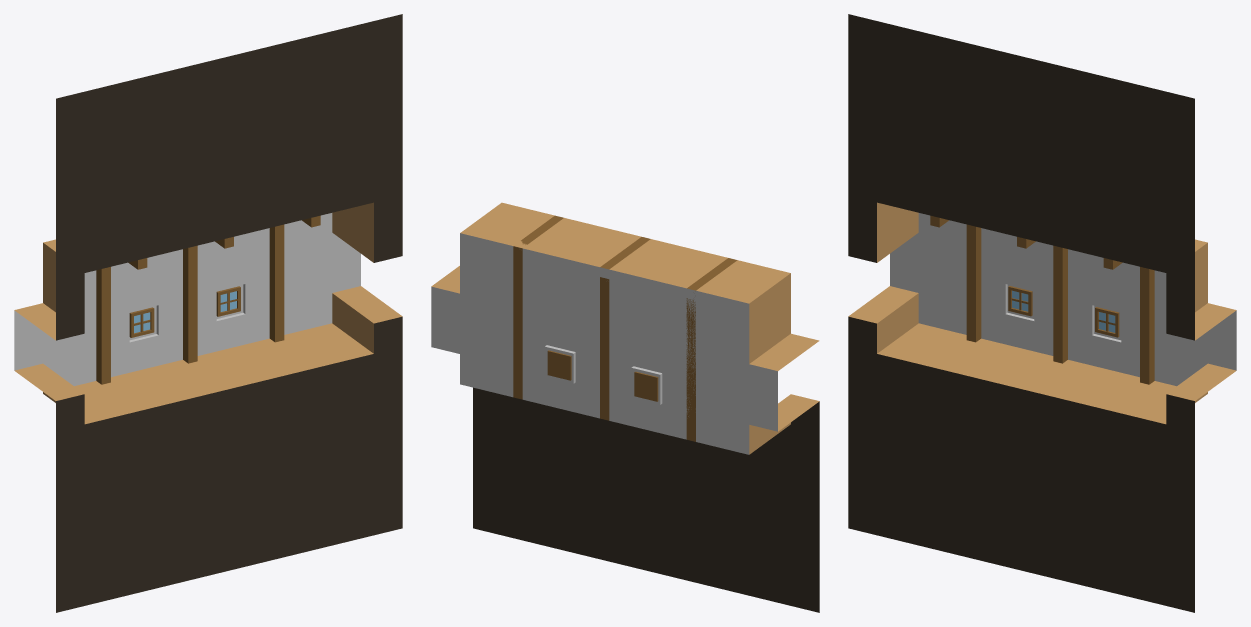
File: Room-004.fbx
3 views of the same model, side by side, from view 1: azimuth 30°, elevation 25°; view 2: azimuth 150°, elevation 25°; view 3: azimuth 330°, elevation 25° (orthographic).
Visible parts, largest first — view 1: Room.002; view 2: Room.002; view 3: Room.002.
Boxes of the visible parts, left/top/right/bottom form: Room.002: left=14, top=14, right=402, bottom=612; Room.002: left=431, top=202, right=819, bottom=612; Room.002: left=848, top=14, right=1236, bottom=612.
Size of the model in its own units: 2400 by 3400 by 537.
